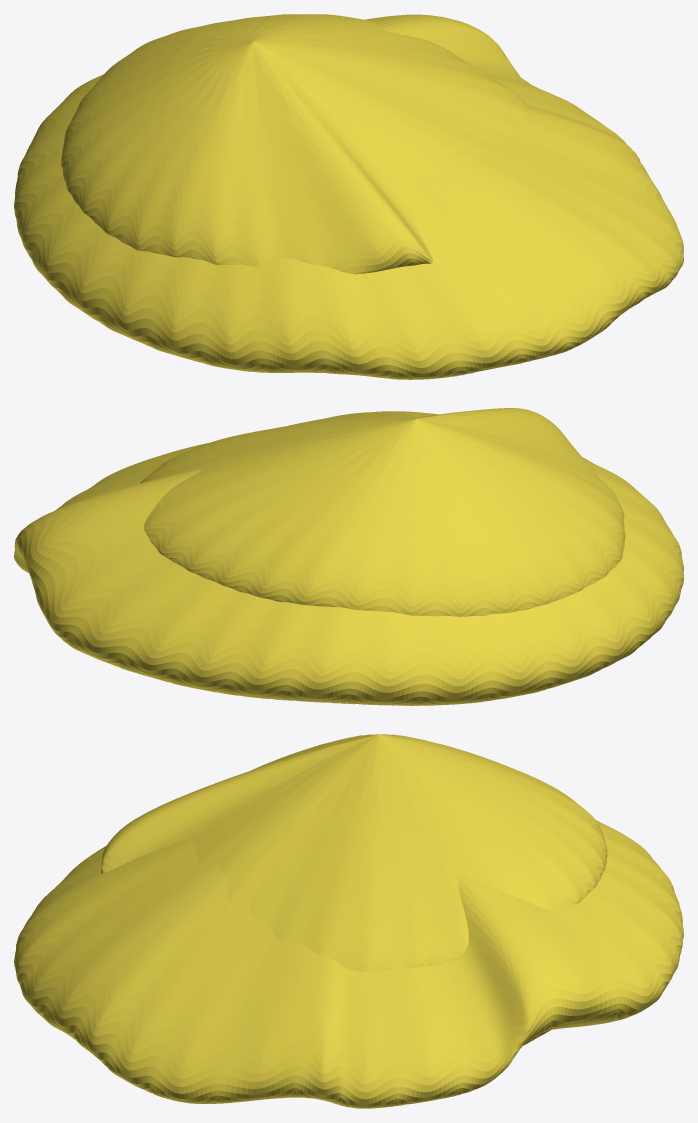
Rendered from _Yellow.fbx.
3 renders of one model, top to bottom at view 1: azimuth 30°, elevation 25°; view 2: azimuth 150°, elevation 25°; view 3: azimuth 270°, elevation 25°, orthographic. The views are drawn at different scales.
Parts seen in each view (by area): view 1: Cone.001; view 2: Cone.001; view 3: Cone.001.
Part boxes in pixels (x1=…): Cone.001: x1=14, y1=14, x2=683, y2=379; Cone.001: x1=14, y1=408, x2=683, y2=705; Cone.001: x1=14, y1=734, x2=683, y2=1108.
Bounding box in the file's own units: 47.07 × 18.92 × 48.81.
